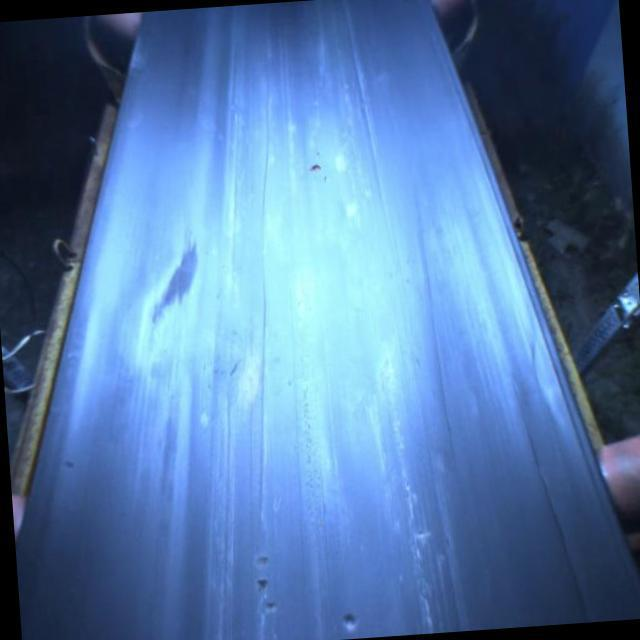Hole: (334, 613, 364, 633), (305, 156, 323, 180), (250, 578, 274, 594), (258, 599, 282, 614), (252, 553, 272, 570)
Puncture: (411, 524, 434, 544)
Tear: (246, 84, 278, 530)
Wear: (138, 232, 211, 334)
